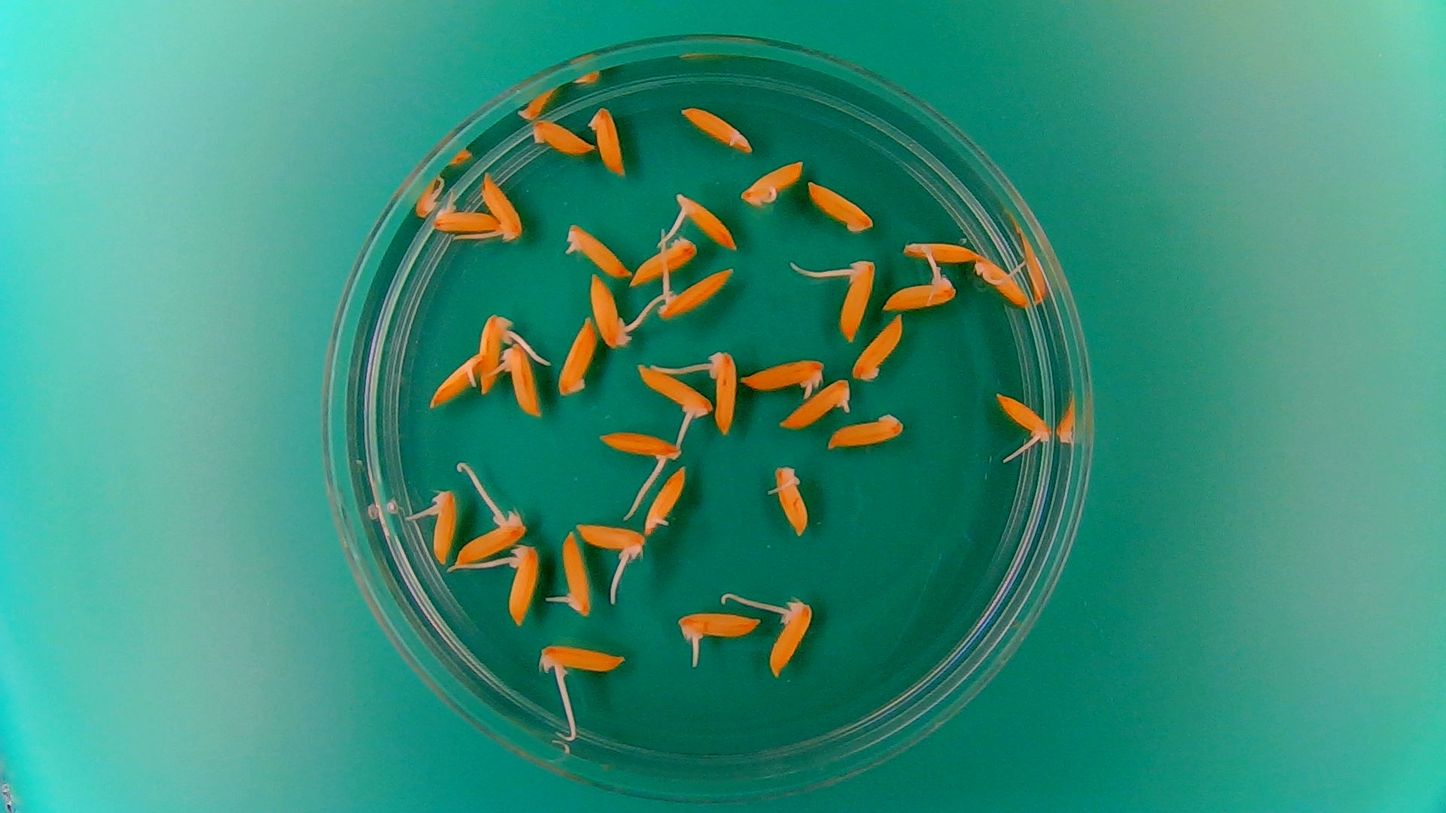no: (805, 176, 877, 236), (627, 233, 700, 287), (850, 312, 905, 383), (680, 102, 755, 154), (556, 314, 599, 399), (824, 410, 907, 452), (587, 102, 627, 177), (528, 117, 595, 157), (898, 233, 980, 265)
yes: (654, 264, 737, 321), (669, 190, 739, 252), (586, 271, 640, 350), (638, 360, 712, 416), (777, 376, 852, 431), (562, 221, 632, 278), (457, 513, 528, 568), (767, 596, 813, 680), (676, 607, 764, 647), (480, 170, 526, 245), (972, 253, 1033, 309), (642, 463, 688, 537), (769, 461, 812, 540), (428, 350, 483, 411), (835, 251, 874, 337), (502, 340, 543, 421), (537, 640, 621, 679), (740, 157, 805, 207), (996, 389, 1052, 445), (507, 539, 542, 626), (743, 358, 827, 394), (560, 534, 595, 620), (571, 519, 644, 560), (601, 427, 684, 462), (477, 314, 512, 394), (710, 344, 740, 434), (886, 273, 955, 310), (432, 199, 499, 236), (429, 486, 459, 564)
